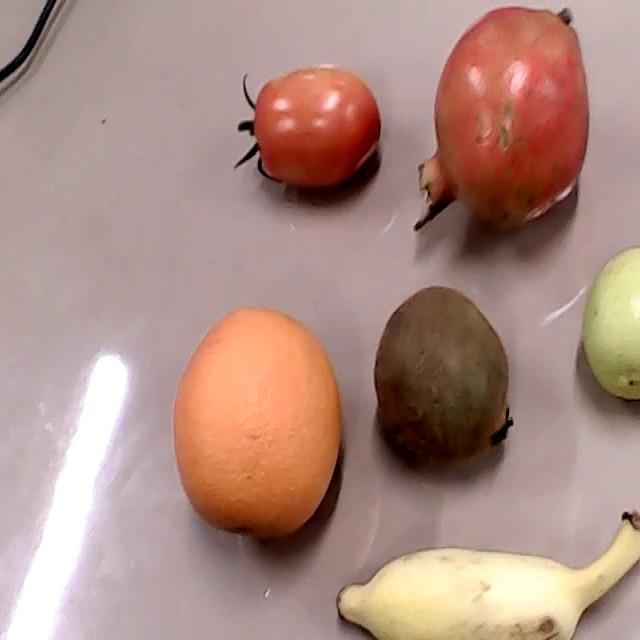kiwi: (373, 285, 514, 471)
lemon: (581, 247, 639, 400)
orange: (175, 307, 342, 539)
pomegranate: (413, 4, 590, 231)
tomato: (234, 66, 380, 191)
